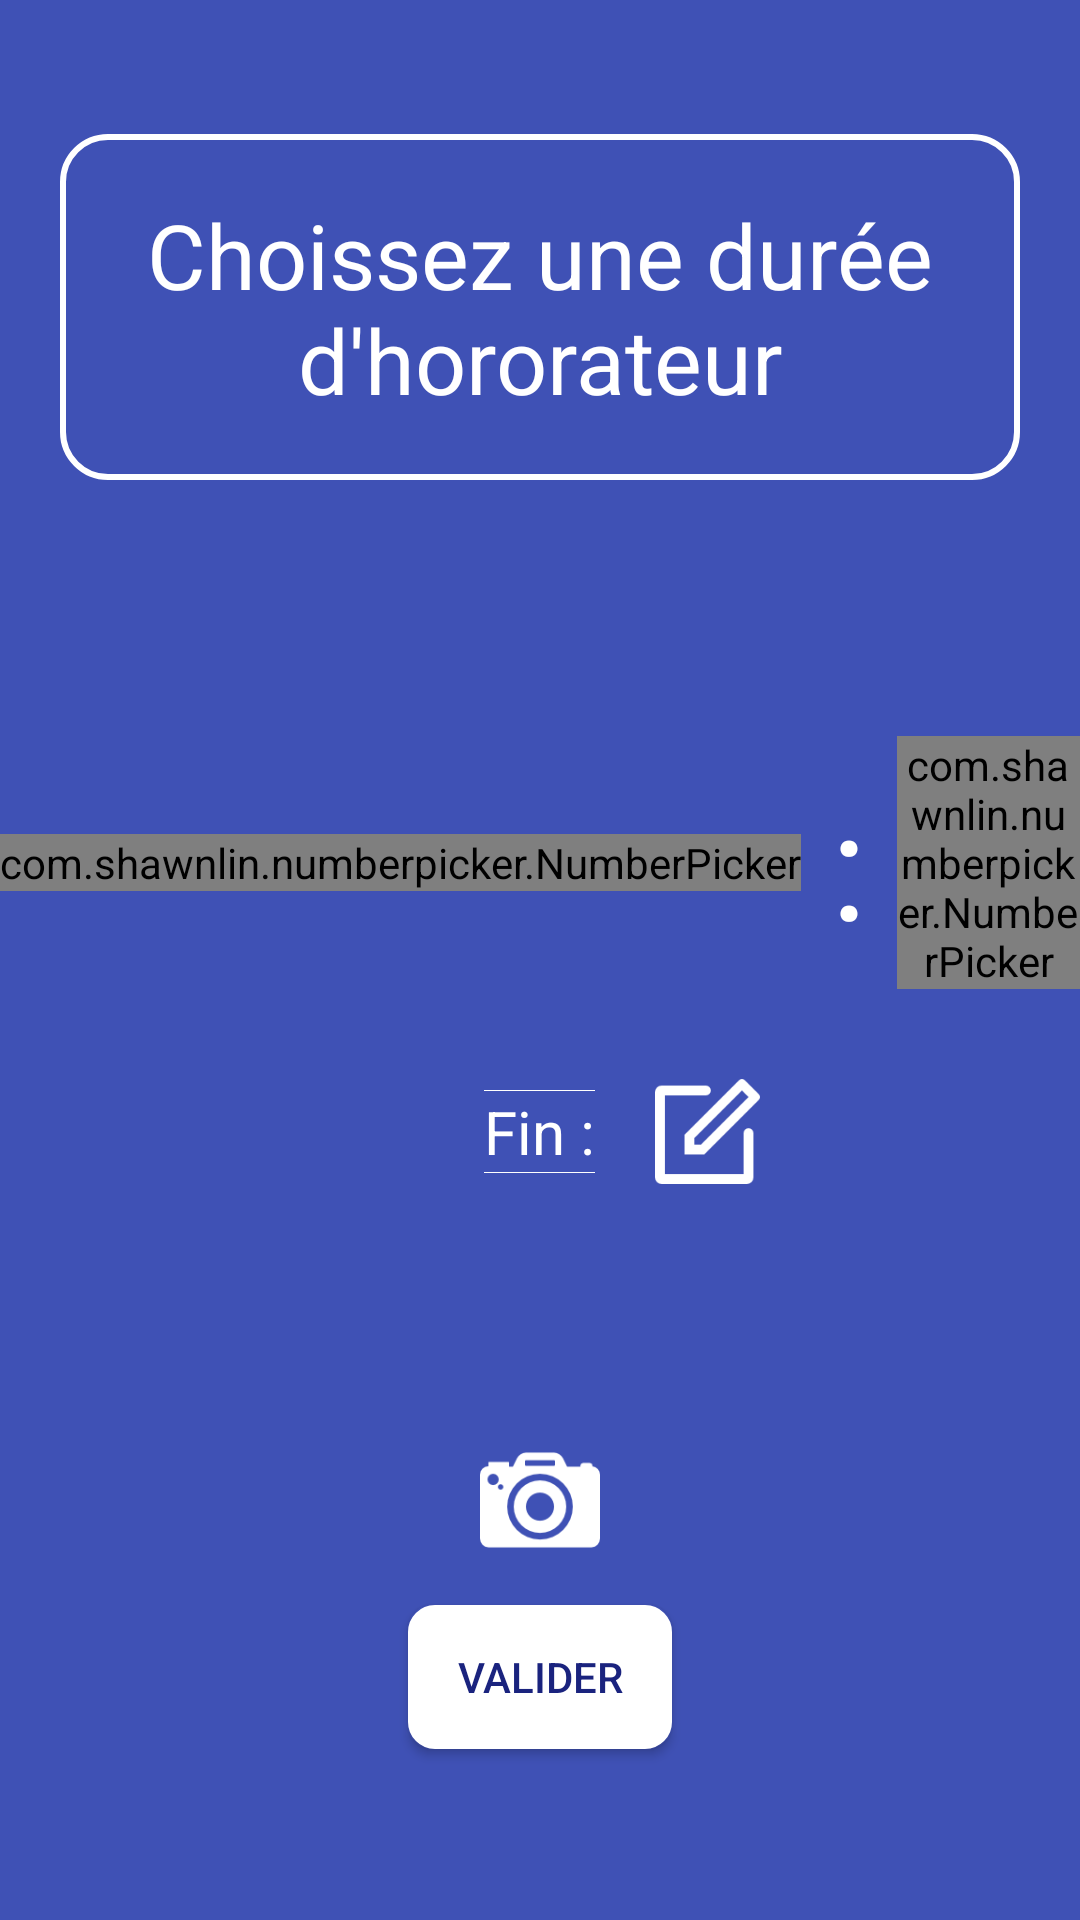

Icons on this 1080 × 1920 Android screen, each with its box as bbox=(x1, y1, x2, y2):
camera: bbox=(480, 1452, 600, 1548)
edit: bbox=(655, 1079, 760, 1184)
